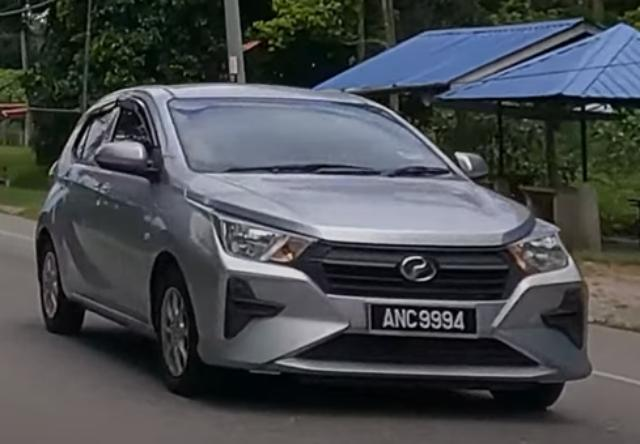License_Plate: (365, 302, 480, 339)
car: (34, 83, 594, 412)
